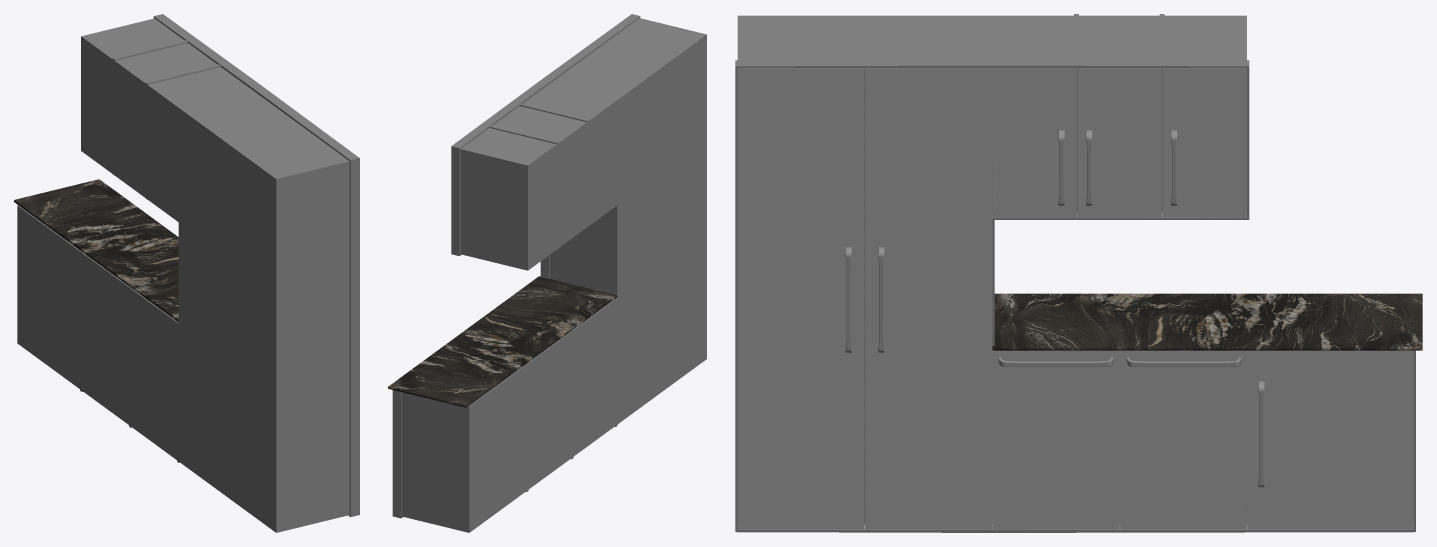
The model's file is KitchenCabinetTall.fbx.
3 renders of one model, left to right at view 1: azimuth 30°, elevation 25°; view 2: azimuth 150°, elevation 25°; view 3: azimuth 270°, elevation 25°, orthographic. The views are drawn at different scales.
Visible parts, largest first — view 1: CABINET.001, CABINET.005; view 2: CABINET.001, CABINET.005; view 3: CABINET.006, CABINET.011, CABINET.001, CABINET.010, CABINET.005, CABINET.008, CABINET.009, CABINET.003, CABINET.002, CABINET.007.
Boxes of the visible parts, x1=… form: CABINET.001: x1=17, y1=14, x2=359, y2=532; CABINET.005: x1=14, y1=179, x2=178, y2=322; CABINET.001: x1=392, y1=14, x2=706, y2=532; CABINET.005: x1=388, y1=276, x2=617, y2=407; CABINET.006: x1=737, y1=68, x2=864, y2=529; CABINET.011: x1=865, y1=68, x2=992, y2=529; CABINET.001: x1=735, y1=14, x2=1415, y2=532; CABINET.010: x1=1247, y1=350, x2=1413, y2=529; CABINET.005: x1=992, y1=293, x2=1422, y2=350; CABINET.008: x1=992, y1=350, x2=1119, y2=529; CABINET.009: x1=1119, y1=350, x2=1246, y2=529; CABINET.003: x1=1077, y1=68, x2=1162, y2=217; CABINET.002: x1=992, y1=68, x2=1076, y2=217; CABINET.007: x1=1162, y1=68, x2=1246, y2=217.
Size of the model in its own units: 52.95 by 202 by 270.
4 materials, 1 textured.
